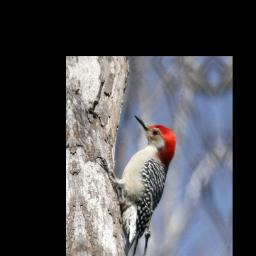Woodpecker: (87, 107, 190, 256)
